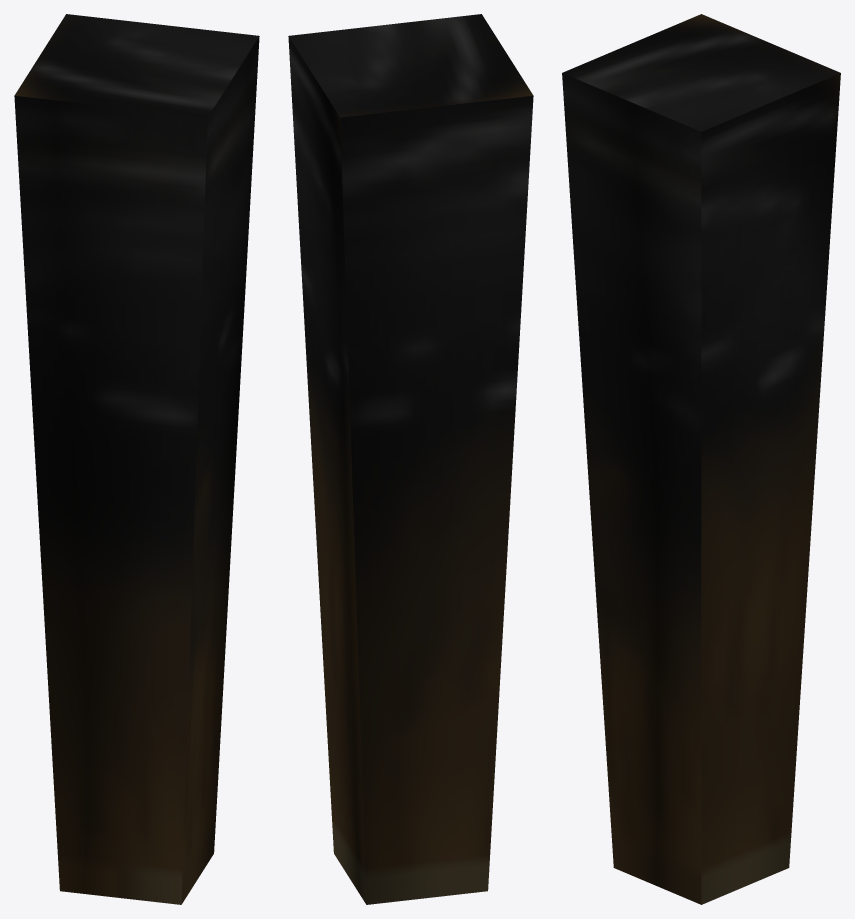
The model's file is pochodnia.FBX.
3 renders of one model, left to right at view 1: azimuth 30°, elevation 25°; view 2: azimuth 150°, elevation 25°; view 3: azimuth 270°, elevation 25°, orthographic.
Parts seen in each view (by area): view 1: Cylinder002; view 2: Cylinder002; view 3: Cylinder002.
Part boxes in pixels (left/top/right/bottom): Cylinder002: left=14, top=14, right=259, bottom=904; Cylinder002: left=288, top=14, right=533, bottom=904; Cylinder002: left=562, top=14, right=840, bottom=904.
Bounding box in the file's own units: 0.6585 × 2.07 × 0.6585.
1 material, 1 textured.
